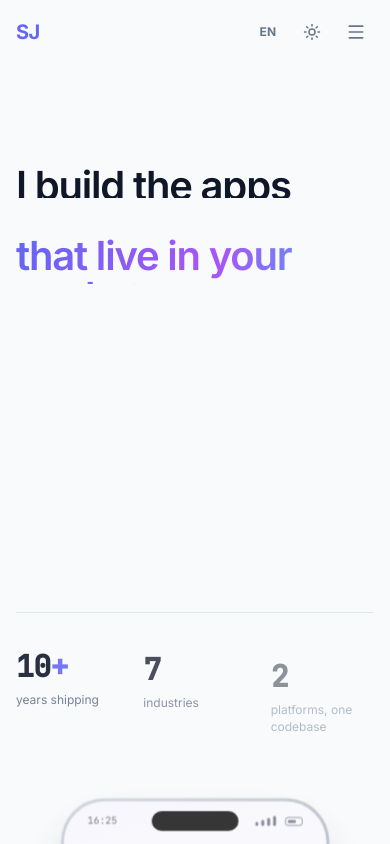
Scenario: mobile menu › opens a modal dialog, exposes aria state and closes on navigation
The image size is (390, 844).
Step 1. Click the button named "Open menu" → (356, 32), box [338,14,374,50]
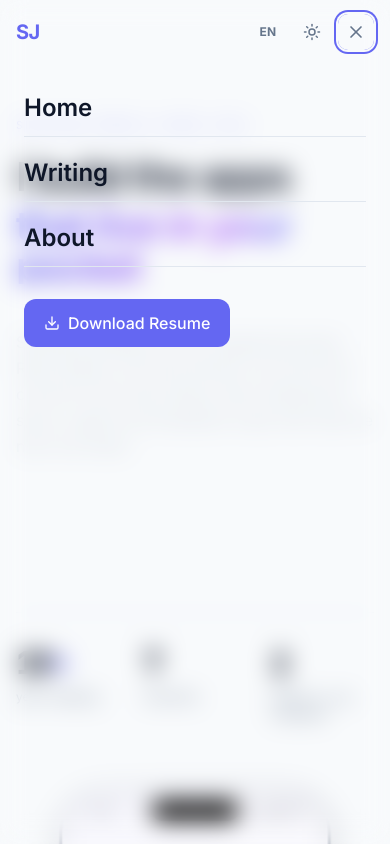
expect the button named "Close menu" is expanded: met
Step 2. Click the button named "Close menu" → (356, 32), box [338,14,374,50]
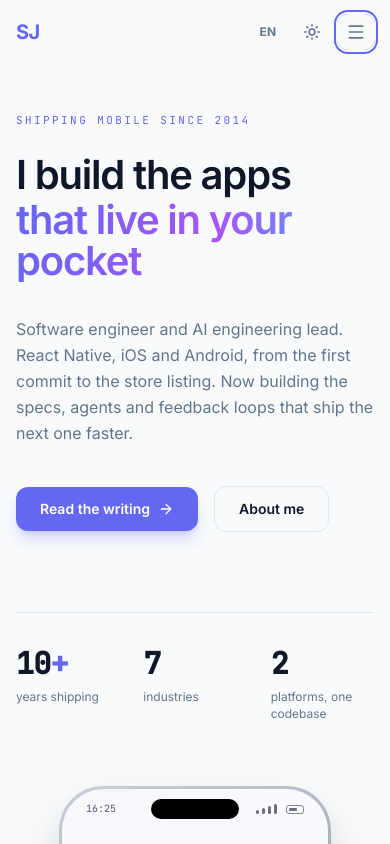
expect the button named "Open menu" is collapsed: met, box [338,14,374,50]
